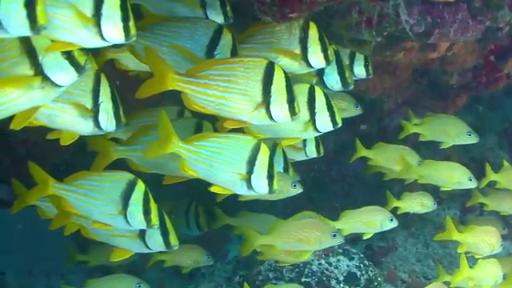Fish: (136, 48, 299, 127), (13, 162, 174, 234), (145, 112, 279, 195), (10, 68, 125, 145), (0, 36, 87, 119), (87, 124, 190, 183), (244, 84, 341, 145), (127, 18, 236, 72), (77, 211, 179, 261), (12, 179, 103, 235), (239, 19, 333, 73), (41, 0, 136, 51), (239, 217, 343, 255), (238, 142, 303, 200), (399, 111, 479, 147), (434, 216, 503, 257), (107, 106, 192, 139), (291, 48, 354, 91), (400, 160, 478, 190), (132, 0, 233, 23), (160, 200, 219, 239), (351, 139, 422, 171), (332, 206, 398, 239), (148, 244, 214, 272), (237, 172, 303, 200), (12, 179, 58, 219), (214, 208, 283, 234), (0, 0, 47, 38), (96, 45, 150, 78), (451, 254, 505, 287), (315, 48, 354, 91), (69, 243, 135, 267), (336, 46, 372, 79), (466, 189, 511, 215), (387, 191, 437, 214), (257, 246, 314, 266), (283, 136, 324, 162), (328, 92, 363, 118), (464, 214, 507, 235), (480, 160, 511, 189), (83, 274, 150, 287), (496, 256, 511, 273), (264, 284, 303, 287), (425, 282, 447, 287)
